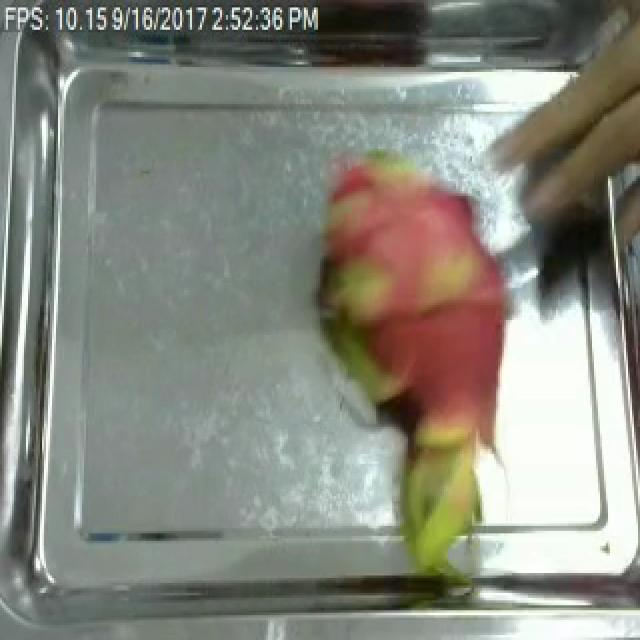fruit: (302, 174, 532, 588)
